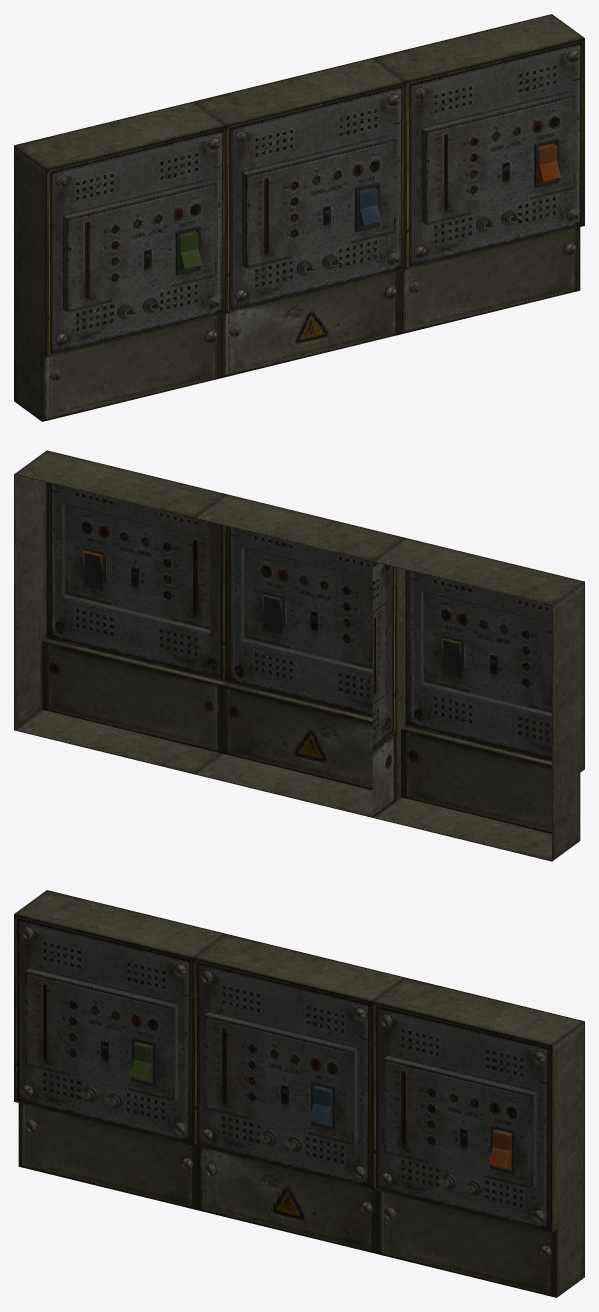
The model's file is panel_etx_2.glb.
The picture shows the model from 3 angles, top to bottom: view 1: azimuth 30°, elevation 25°; view 2: azimuth 150°, elevation 25°; view 3: azimuth 330°, elevation 25°; orthographic projection.
Visible parts, largest first — view 1: panel_etx_2, panel_etx_1_button_child_1, panel_etx_1_button_child_3, panel_etx_1_button_child_2; view 2: panel_etx_2; view 3: panel_etx_2, panel_etx_1_button_child_2, panel_etx_1_button_child_3, panel_etx_1_button_child_1.
Boxes of the visible parts, x1,y1,x2,y2 form: panel_etx_2: [14, 14, 584, 421]; panel_etx_1_button_child_1: [179, 231, 202, 271]; panel_etx_1_button_child_3: [538, 143, 560, 183]; panel_etx_1_button_child_2: [359, 187, 381, 227]; panel_etx_2: [14, 450, 584, 861]; panel_etx_2: [14, 890, 584, 1297]; panel_etx_1_button_child_2: [309, 1085, 332, 1126]; panel_etx_1_button_child_3: [489, 1129, 511, 1169]; panel_etx_1_button_child_1: [130, 1042, 152, 1082].
Bounding box in the file's own units: 1.32 × 0.6 × 0.1866.
Materials: 2 (2 with a texture image).
